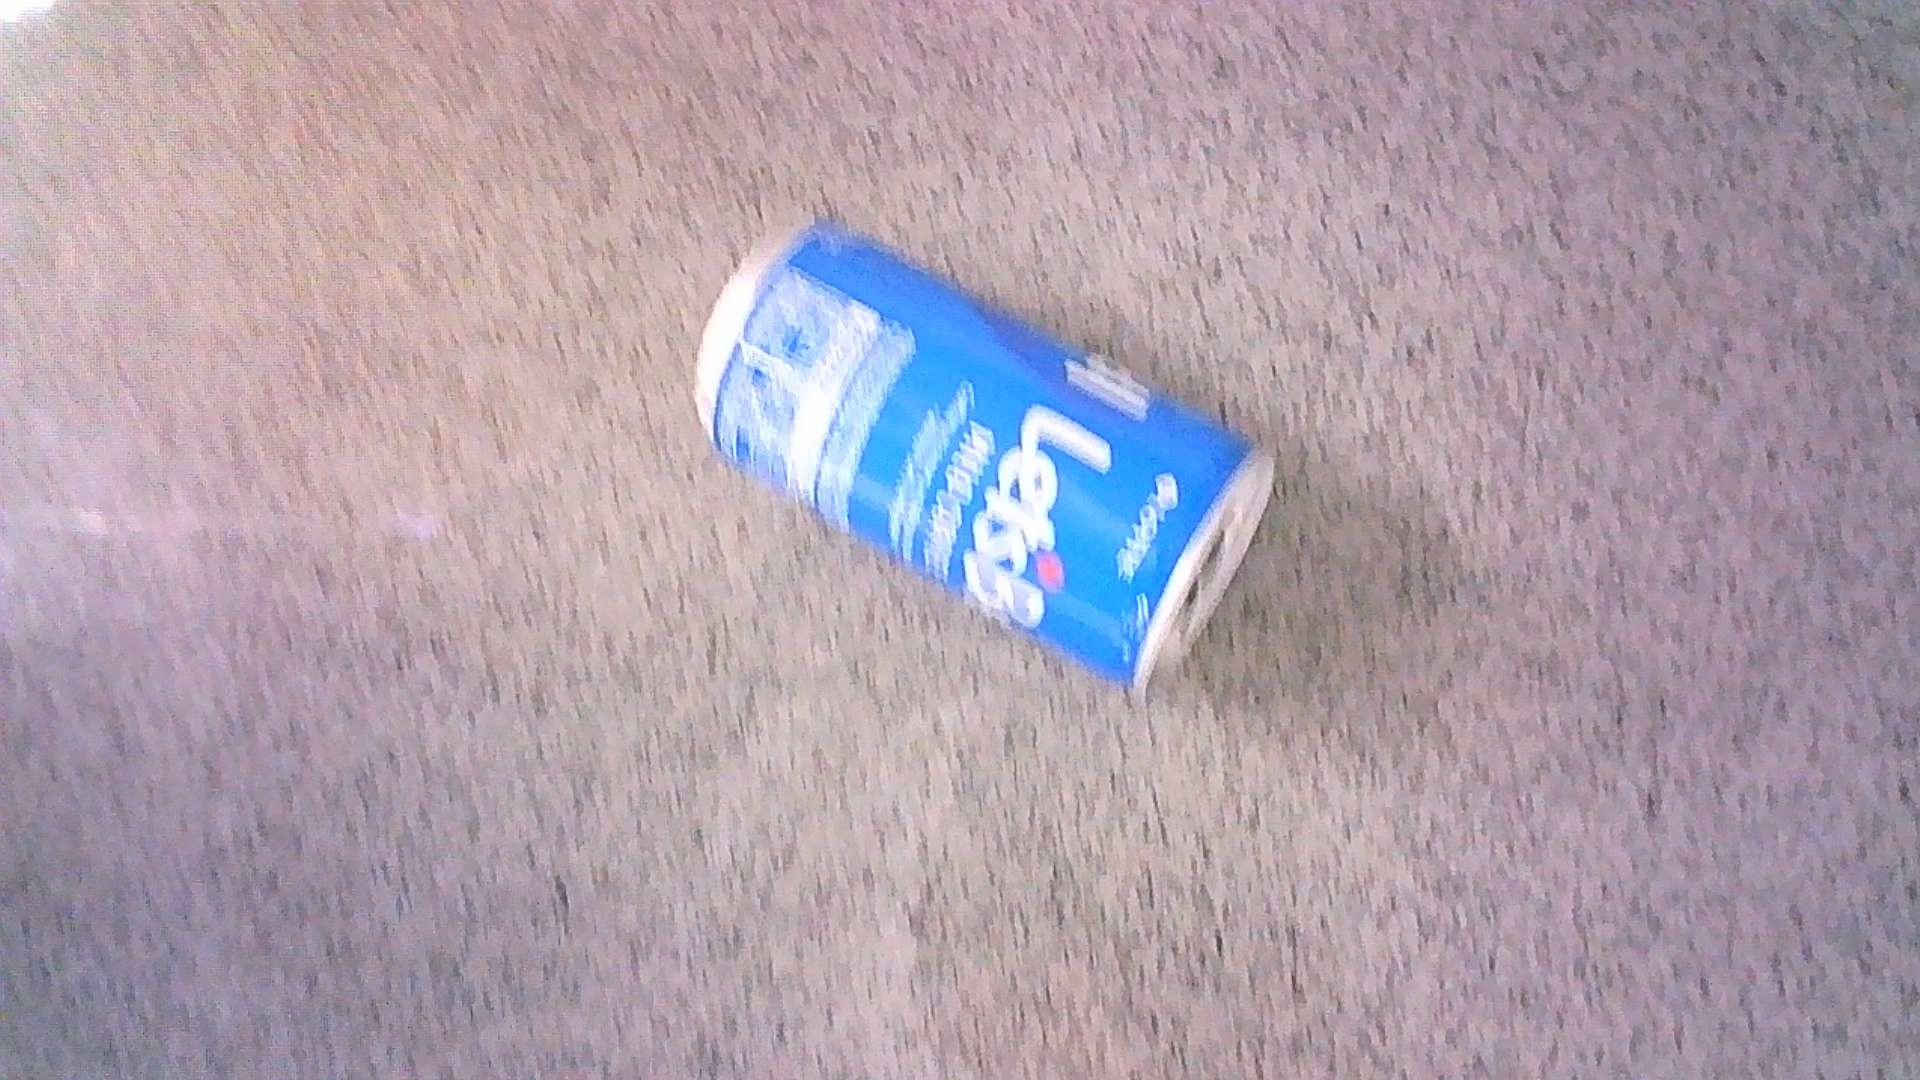letsbe: (691, 220, 1276, 707)
